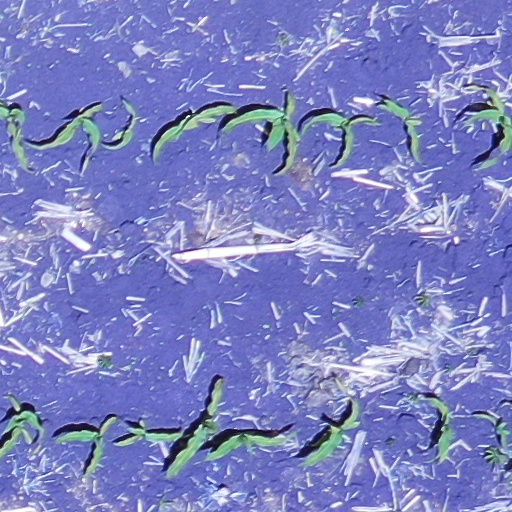planta: (224, 96, 301, 173), (168, 378, 221, 476), (152, 104, 238, 154), (58, 416, 116, 481), (309, 111, 376, 164), (306, 398, 359, 465), (33, 104, 102, 148), (207, 432, 288, 460), (381, 99, 420, 154), (426, 396, 453, 461), (117, 422, 185, 446)
